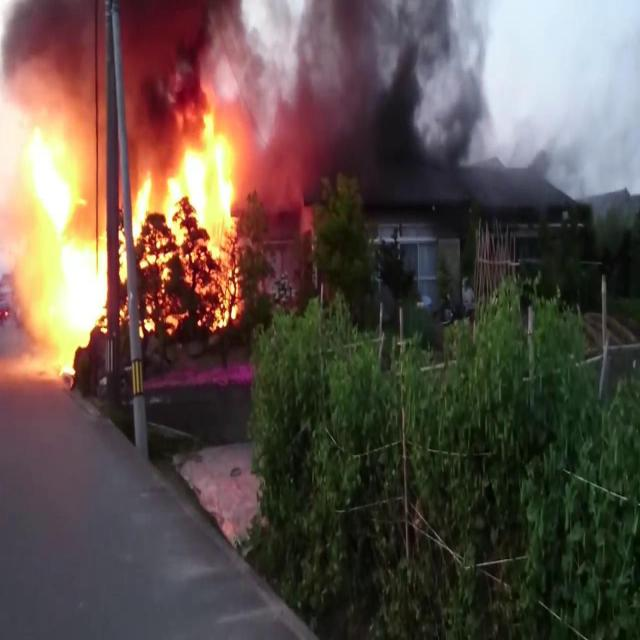Fire: (14, 116, 107, 380), (133, 115, 244, 282), (212, 268, 240, 332), (138, 298, 158, 338), (116, 228, 128, 284), (165, 310, 191, 335), (118, 296, 130, 326)
